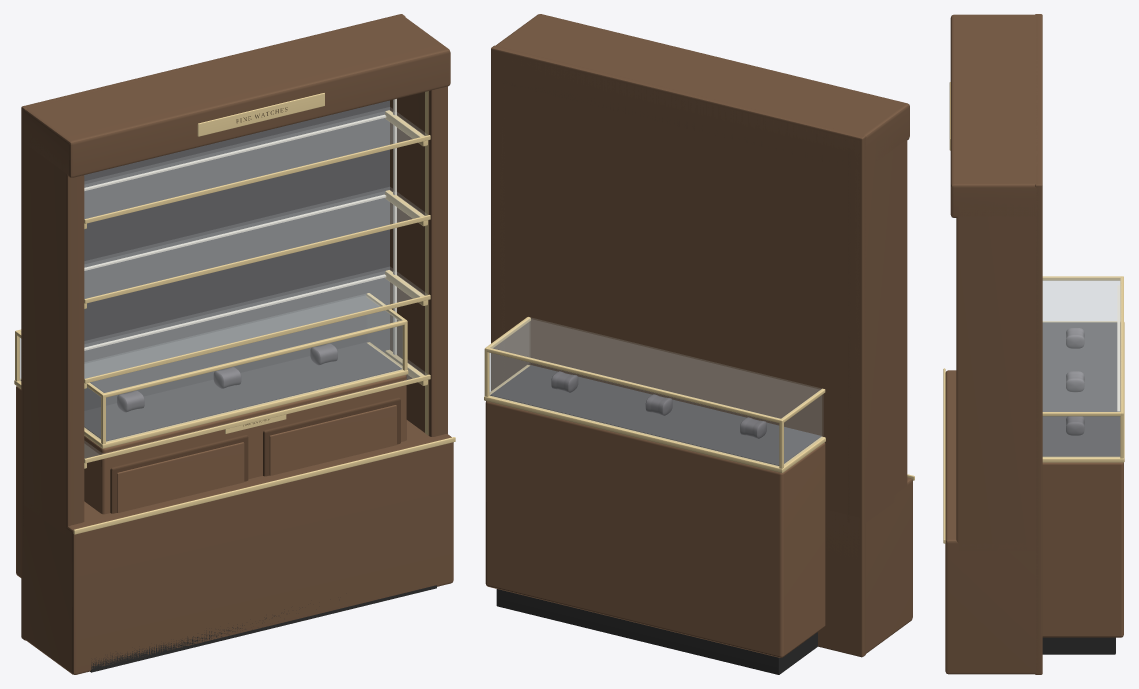
The model's file is watches_kit.glb.
The picture shows the model from 3 angles, left to right: view 1: azimuth 30°, elevation 25°; view 2: azimuth 150°, elevation 25°; view 3: azimuth 270°, elevation 25°; orthographic projection. The views are drawn at different scales.
Visible parts, largest first — view 1: WatchWallShelf, WatchCase; view 2: WatchWallShelf, WatchCase; view 3: WatchWallShelf, WatchCase.
Part boxes in pixels (bbox=[...]): WatchWallShelf: bbox=[21, 14, 455, 674]; WatchCase: bbox=[14, 293, 408, 577]; WatchWallShelf: bbox=[491, 14, 914, 657]; WatchCase: bbox=[484, 317, 825, 674]; WatchWallShelf: bbox=[943, 14, 1042, 674]; WatchCase: bbox=[1042, 276, 1124, 654].
Bounding box in the file's own units: 1.5 × 2.03 × 0.669.
